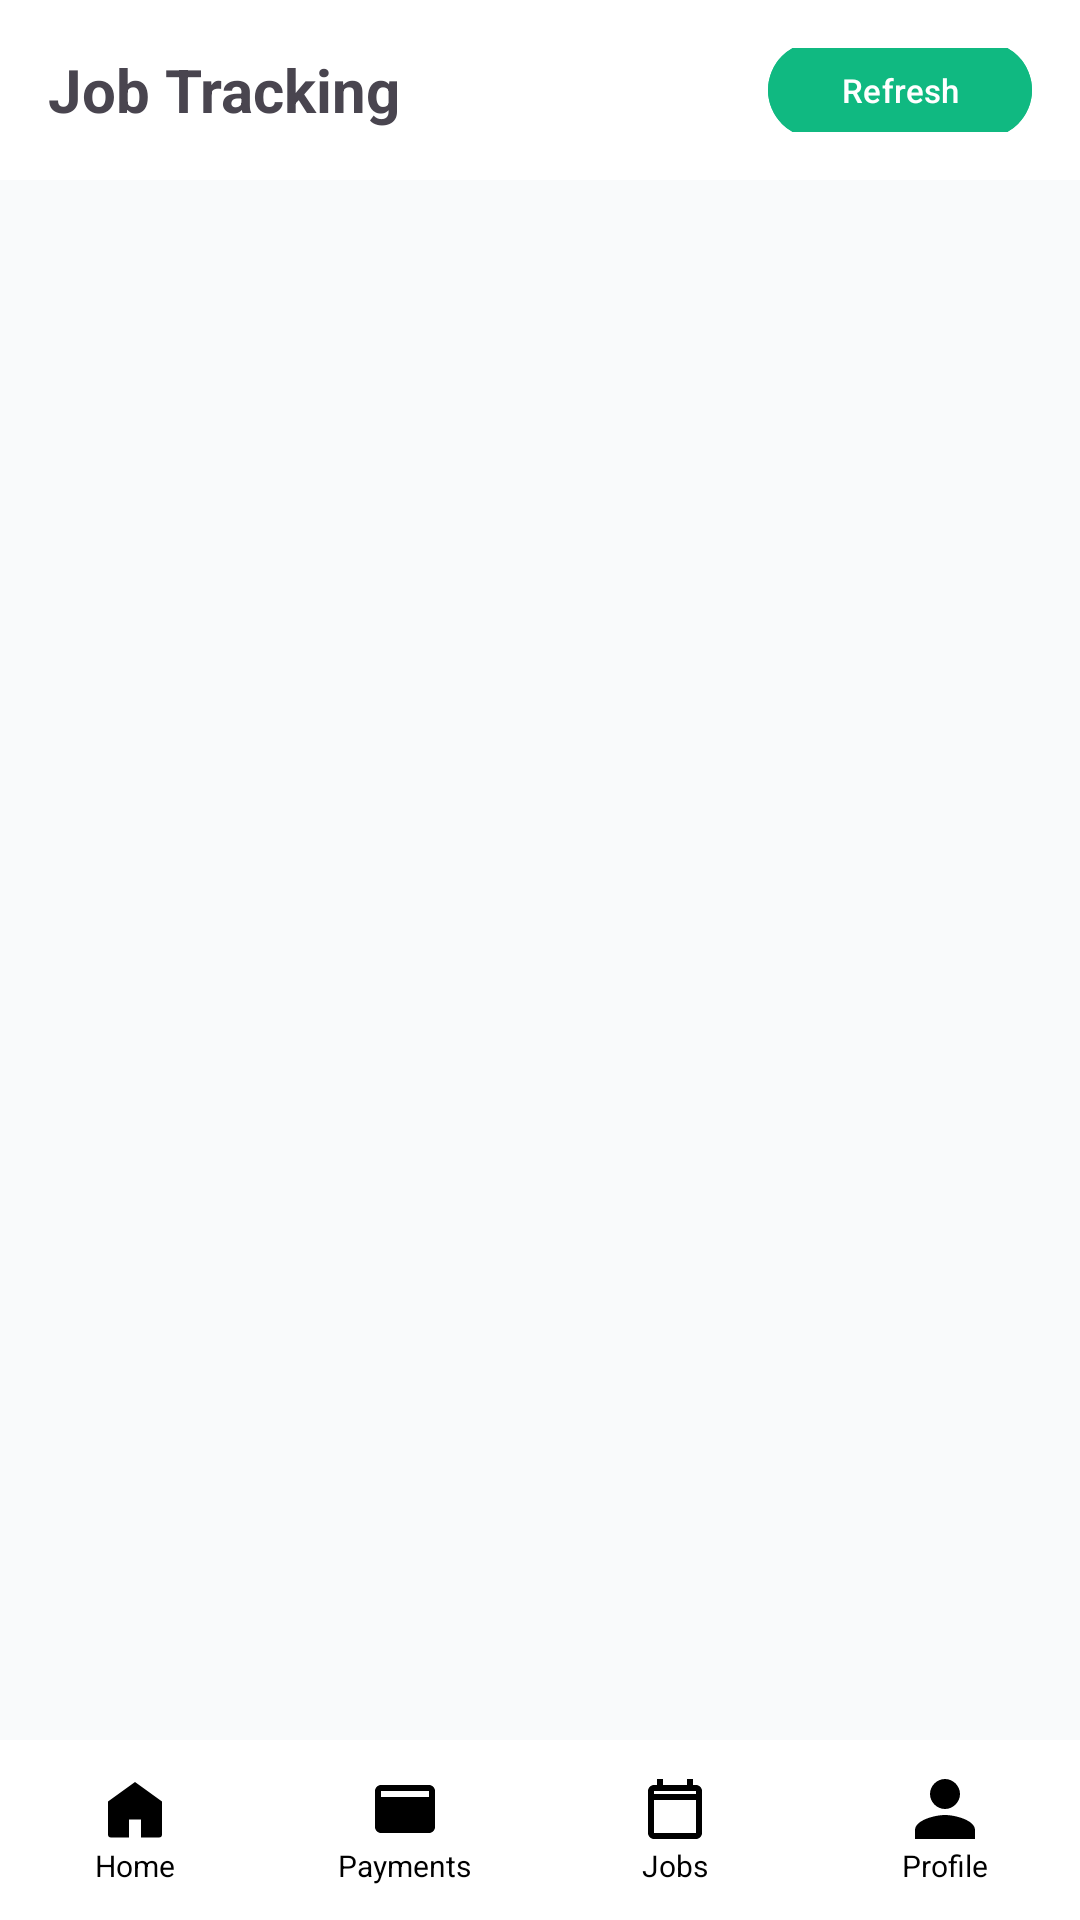

Icons on this 1080×1920 Android screen, each with its box as (x1, y1, x2, y2):
calendar: (648, 1779, 702, 1839)
user: (915, 1779, 975, 1839)
